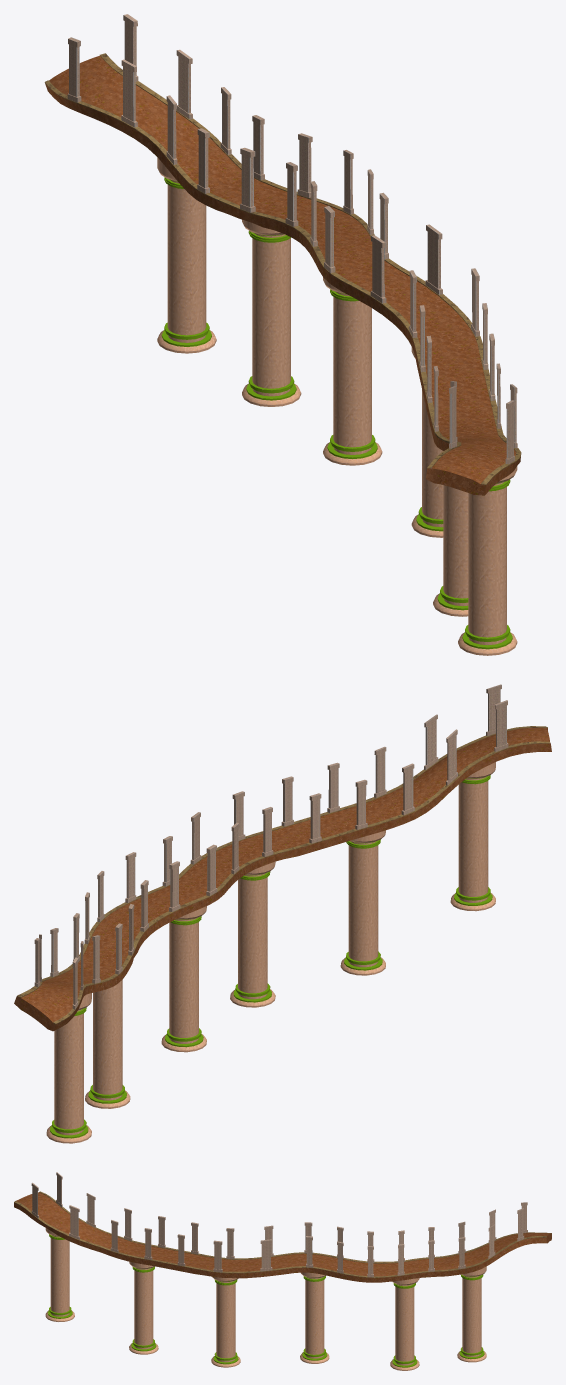
The model's file is Puente2.fbx.
3 views of the same model, one above another, from view 1: azimuth 30°, elevation 25°; view 2: azimuth 150°, elevation 25°; view 3: azimuth 270°, elevation 25° (orthographic). The views are drawn at different scales.
Parts seen in each view (by area): view 1: Cylinder.010; view 2: Cylinder.010; view 3: Cylinder.010.
Boxes of the visible parts, x1,y1,x2,y2 form: Cylinder.010: (44, 14, 521, 655); Cylinder.010: (14, 684, 551, 1143); Cylinder.010: (14, 1172, 551, 1370).
Bounding box in the file's own units: 2512 × 2853 × 9147.
Materials: 2 (2 with a texture image).
